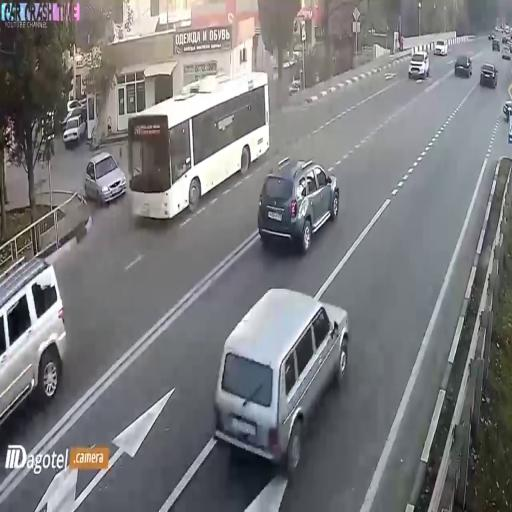小汽车: (214, 298, 350, 470), (137, 76, 268, 212), (0, 261, 75, 427), (260, 163, 341, 248), (85, 156, 127, 204), (61, 113, 86, 150), (408, 43, 430, 81), (430, 32, 450, 66), (480, 54, 496, 94), (455, 50, 473, 78), (498, 36, 512, 64)
